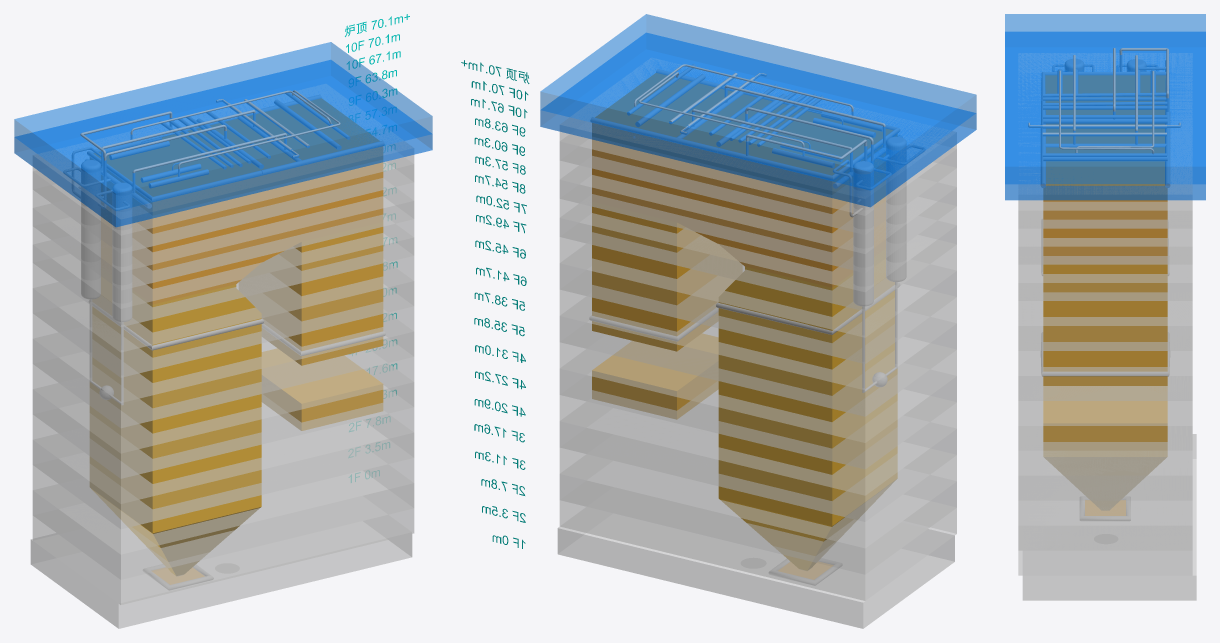
3 views of the same model, side by side, from view 1: azimuth 30°, elevation 25°; view 2: azimuth 150°, elevation 25°; view 3: azimuth 270°, elevation 25° (orthographic). The views are drawn at different scales.
Parts seen in each view (by area): view 1: 水冷壁_平面, 楼层_10_2_Mesh_033, 楼层_10_1_Mesh_032, 水平烟道_平面_002, 楼层_2_1_Mesh_013, 楼层_1_Mesh_005, 楼层_2_2_Mesh_014, 楼层_3_2_Mesh_017, 楼层_4_2_Mesh_020, 楼层_3_1_Mesh_015, 楼层_4_3_Mesh_021, 楼层_6_1_Mesh_024 (+23 smaller); view 2: 水冷壁_平面, 楼层_10_2_Mesh_033, 楼层_10_1_Mesh_032, 水平烟道_平面_002, 楼层_1_Mesh_005, 楼层_2_2_Mesh_014, 楼层_4_2_Mesh_020, 楼层_3_2_Mesh_017, 楼层_4_3_Mesh_021, 楼层_3_1_Mesh_015, 楼层_6_1_Mesh_024, 楼层_2_1_Mesh_013 (+22 smaller); view 3: 楼层_10_2_Mesh_033, 楼层_10_1_Mesh_032, 水平烟道_平面_002, 尾部烟道_平面_001, 楼层_1_Mesh_005, 楼层_2_2_Mesh_014, 楼层_3_2_Mesh_017, 楼层_4_2_Mesh_020, 楼层_2_1_Mesh_013, 楼层_3_1_Mesh_015, 省煤区_平面_004, 楼层_4_3_Mesh_021 (+27 smaller).
Part boxes in pixels (x1,y1,x2,y2): 水冷壁_平面: (90, 268, 261, 575); 楼层_10_2_Mesh_033: (14, 42, 432, 211); 楼层_10_1_Mesh_032: (14, 60, 432, 227); 水平烟道_平面_002: (90, 98, 383, 304); 楼层_2_1_Mesh_013: (32, 490, 414, 604); 楼层_1_Mesh_005: (30, 515, 412, 628); 楼层_2_2_Mesh_014: (32, 464, 414, 579); 楼层_3_2_Mesh_017: (32, 414, 414, 529); 楼层_4_2_Mesh_020: (32, 363, 414, 478); 楼层_3_1_Mesh_015: (32, 439, 414, 554); 楼层_4_3_Mesh_021: (32, 338, 414, 453); 楼层_6_1_Mesh_024: (32, 262, 414, 377); 水冷壁_平面: (718, 249, 897, 570); 楼层_10_2_Mesh_033: (540, 14, 976, 190); 楼层_10_1_Mesh_032: (540, 33, 976, 207); 水平烟道_平面_002: (592, 73, 896, 287); 楼层_1_Mesh_005: (557, 507, 954, 628); 楼层_2_2_Mesh_014: (559, 454, 956, 574); 楼层_4_2_Mesh_020: (559, 349, 956, 469); 楼层_3_2_Mesh_017: (559, 401, 956, 521); 楼层_4_3_Mesh_021: (559, 323, 956, 442); 楼层_3_1_Mesh_015: (559, 428, 956, 547); 楼层_6_1_Mesh_024: (559, 243, 956, 363); 楼层_2_1_Mesh_013: (559, 481, 956, 600); 楼层_10_2_Mesh_033: (1005, 14, 1205, 184); 楼层_10_1_Mesh_032: (1005, 32, 1205, 200); 水平烟道_平面_002: (1043, 75, 1167, 262); 尾部烟道_平面_001: (1043, 263, 1167, 385); 楼层_1_Mesh_005: (1022, 434, 1196, 600); 楼层_2_2_Mesh_014: (1018, 500, 1192, 550); 楼层_3_2_Mesh_017: (1018, 450, 1192, 500); 楼层_4_2_Mesh_020: (1018, 401, 1192, 450); 楼层_2_1_Mesh_013: (1018, 526, 1192, 575); 楼层_3_1_Mesh_015: (1018, 476, 1192, 525); 省煤区_平面_004: (1043, 386, 1167, 450); 楼层_4_3_Mesh_021: (1018, 376, 1192, 425).
Bounding box in the file's own units: 102 × 115 × 45.63.
